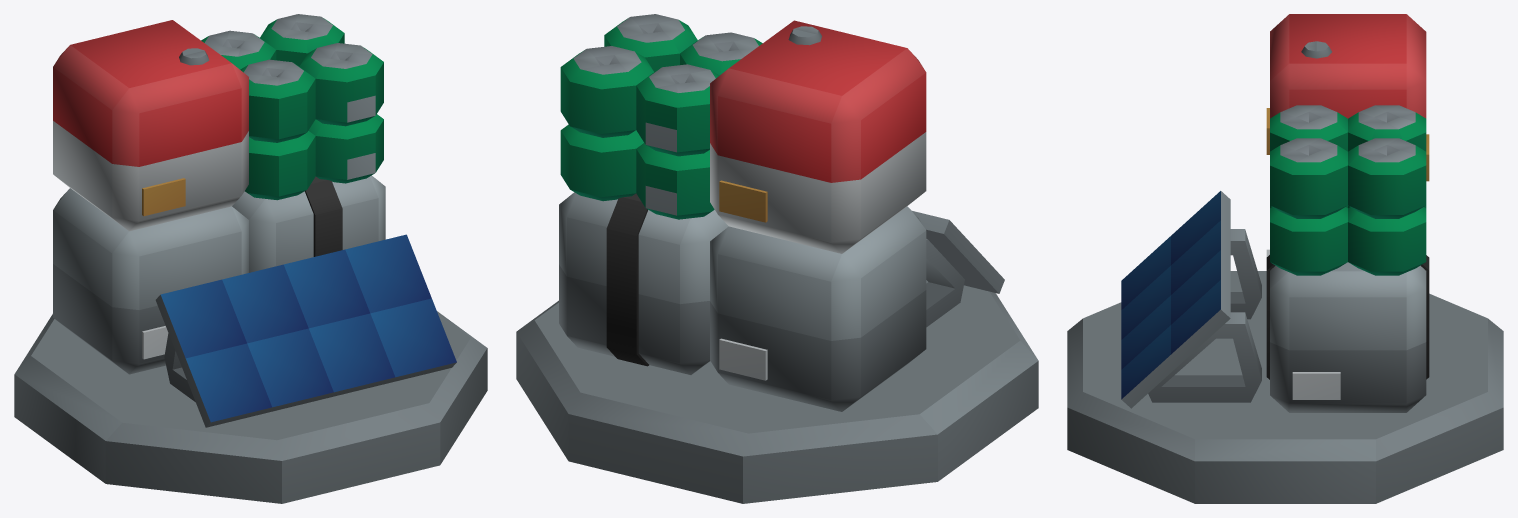
Rendered from space-roofmodule-cargo-c.glb.
3 views of the same model, side by side, from view 1: azimuth 30°, elevation 25°; view 2: azimuth 150°, elevation 25°; view 3: azimuth 270°, elevation 25° (orthographic). The views are drawn at different scales.
Parts seen in each view (by area): view 1: roofmodule_cargo_C; view 2: roofmodule_cargo_C; view 3: roofmodule_cargo_C.
Part boxes in pixels (<box>): roofmodule_cargo_C: <box>14,14,487,503</box>; roofmodule_cargo_C: <box>516,14,1038,503</box>; roofmodule_cargo_C: <box>1067,14,1503,503</box>.
Size of the model in its own units: 1.4 by 1.22 by 1.4.
